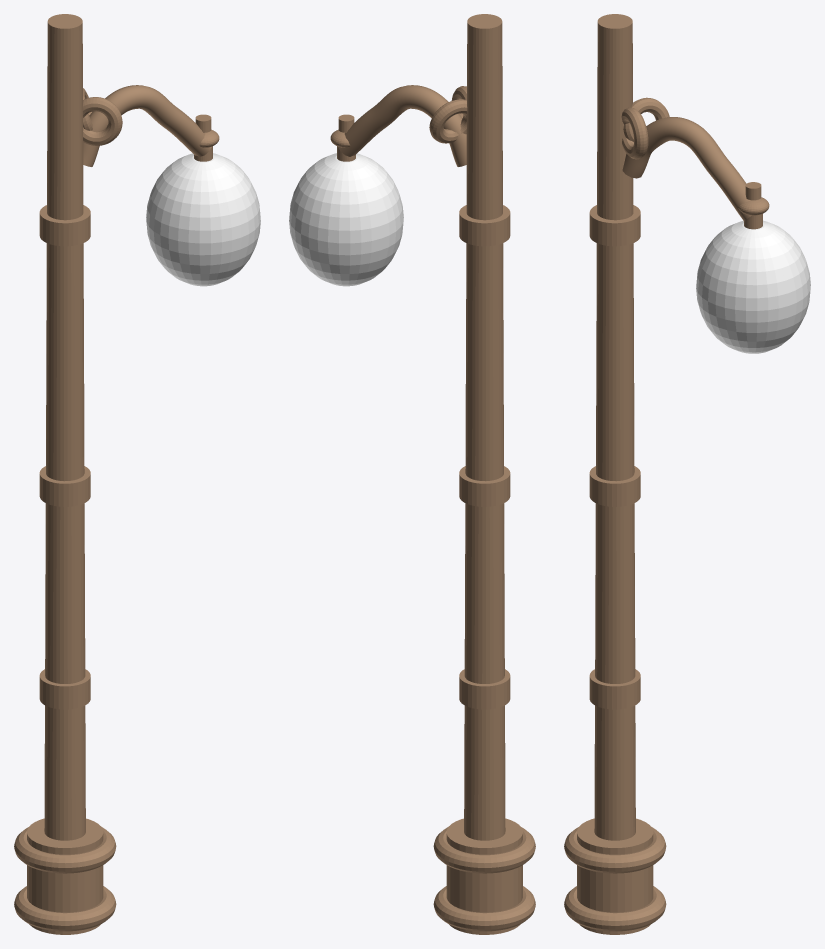
The picture shows the model from 3 angles, left to right: view 1: azimuth 30°, elevation 25°; view 2: azimuth 150°, elevation 25°; view 3: azimuth 330°, elevation 25°; orthographic projection.
Visible parts, largest first — view 1: MainPole, GlassGlobe, Base, DecorativeArm, Torus.001, Torus, Cylinder.002, Cylinder.001, Cylinder, Torus.003; view 2: MainPole, GlassGlobe, Base, DecorativeArm, Torus.001, Torus, Cylinder.002, Cylinder.001, Cylinder, Torus.002; view 3: MainPole, GlassGlobe, Base, DecorativeArm, Torus.001, Torus, Cylinder.002, Cylinder.001, Cylinder, Torus.003, Torus.002.
Part boxes in pixels (x1=…): MainPole: x1=44, y1=14, x2=85, y2=840; GlassGlobe: x1=146, y1=153, x2=260, y2=286; Base: x1=27, y1=818, x2=103, y2=934; DecorativeArm: x1=83, y1=85, x2=211, y2=166; Torus.001: x1=14, y1=827, x2=116, y2=873; Torus: x1=14, y1=886, x2=116, y2=931; Cylinder.002: x1=39, y1=205, x2=90, y2=246; Cylinder.001: x1=39, y1=466, x2=90, y2=506; Cylinder: x1=39, y1=669, x2=90, y2=709; Torus.003: x1=83, y1=97, x2=122, y2=145; MainPole: x1=464, y1=14, x2=505, y2=840; GlassGlobe: x1=289, y1=153, x2=403, y2=286; Base: x1=446, y1=818, x2=522, y2=934; DecorativeArm: x1=338, y1=85, x2=466, y2=166; Torus.001: x1=433, y1=827, x2=535, y2=873; Torus: x1=433, y1=886, x2=535, y2=931; Cylinder.002: x1=459, y1=205, x2=510, y2=246; Cylinder.001: x1=459, y1=466, x2=510, y2=506; Cylinder: x1=459, y1=669, x2=510, y2=709; Torus.002: x1=429, y1=99, x2=467, y2=143; MainPole: x1=594, y1=14, x2=635, y2=840; GlassGlobe: x1=696, y1=220, x2=810, y2=353; Base: x1=577, y1=818, x2=653, y2=934; DecorativeArm: x1=622, y1=117, x2=751, y2=220; Torus.001: x1=564, y1=827, x2=666, y2=873; Torus: x1=564, y1=886, x2=666, y2=931; Cylinder.002: x1=589, y1=205, x2=640, y2=246; Cylinder.001: x1=589, y1=466, x2=640, y2=506; Cylinder: x1=589, y1=669, x2=640, y2=709; Torus.003: x1=621, y1=107, x2=648, y2=159; Torus.002: x1=623, y1=97, x2=669, y2=141.
Bounding box in the file's own units: 0.84 × 3.1 × 0.36.
